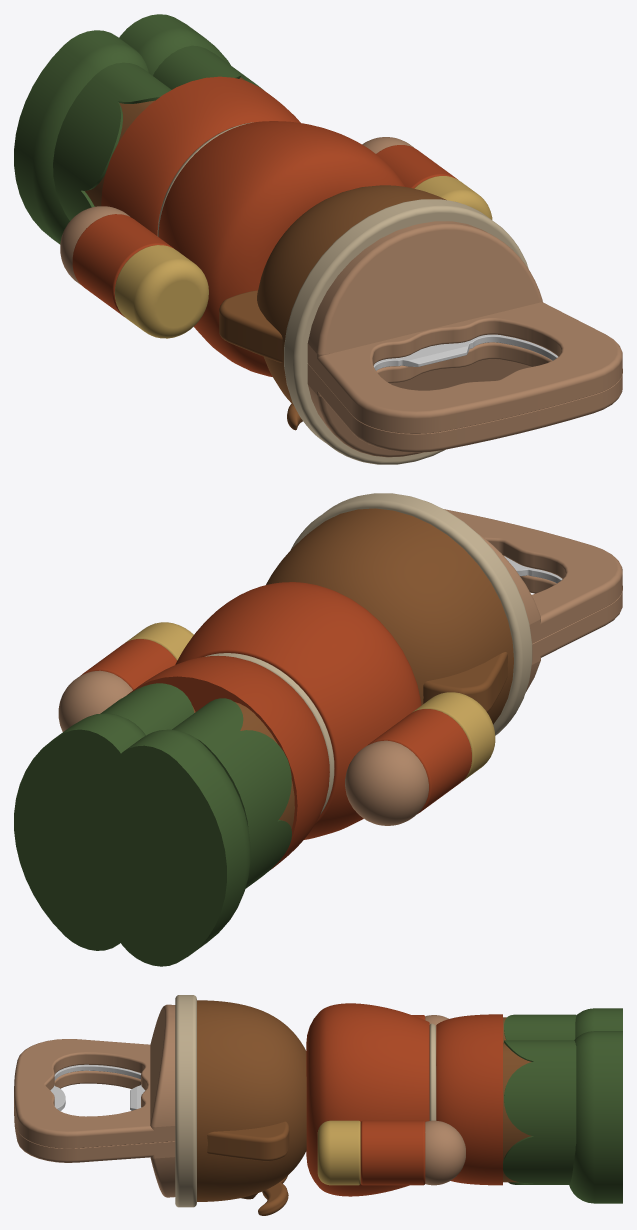
The model's file is Bottleopener.obj.
The picture shows the model from 3 angles, top to bottom: view 1: azimuth 30°, elevation 25°; view 2: azimuth 150°, elevation 25°; view 3: azimuth 270°, elevation 25°; orthographic projection. The views are drawn at different scales.
Parts seen in each view (by area): view 1: 본체51, 본체38, 본체39, 본체34, 본체31, 본체32, 본체44, 본체54, 본체46, 본체49, 본체43, 본체41 (+4 smaller); view 2: 본체31, 본체44, 본체38, 본체43, 본체39, 본체54, 본체51, 본체32, 본체48, 본체49, 본체41, 본체56 (+5 smaller); view 3: 본체31, 본체38, 본체51, 본체41, 본체39, 본체43, 본체32, 본체57, 본체34, 본체55, 본체56, 본체54 (+3 smaller).
Part boxes in pixels (bbox=[...]): 본체51: bbox=[307, 221, 622, 433]; 본체38: bbox=[158, 121, 404, 376]; 본체39: bbox=[101, 76, 300, 235]; 본체34: bbox=[307, 342, 622, 457]; 본체31: bbox=[219, 185, 446, 430]; 본체32: bbox=[284, 199, 528, 464]; 본체44: bbox=[14, 30, 148, 244]; 본체54: bbox=[53, 62, 171, 220]; 본체46: bbox=[114, 245, 208, 338]; 본체49: bbox=[72, 214, 173, 316]; 본체43: bbox=[119, 14, 230, 75]; 본체41: bbox=[153, 45, 262, 89]; 본체31: bbox=[266, 508, 513, 724]; 본체44: bbox=[109, 729, 250, 966]; 본체38: bbox=[175, 582, 421, 839]; 본체43: bbox=[14, 713, 145, 950]; 본체39: bbox=[127, 655, 329, 869]; 본체54: bbox=[172, 698, 294, 888]; 본체51: bbox=[444, 509, 622, 643]; 본체32: bbox=[290, 493, 532, 735]; 본체48: bbox=[345, 740, 428, 825]; 본체49: bbox=[367, 709, 471, 813]; 본체41: bbox=[100, 683, 195, 735]; 본체56: bbox=[58, 670, 132, 731]; 본체31: bbox=[197, 1000, 306, 1215]; 본체38: bbox=[306, 1003, 429, 1196]; 본체51: bbox=[14, 1004, 175, 1148]; 본체41: bbox=[503, 1040, 576, 1184]; 본체39: bbox=[436, 1014, 502, 1185]; 본체43: bbox=[569, 1031, 622, 1203]; 본체32: bbox=[175, 995, 196, 1207]; 본체57: bbox=[360, 1120, 425, 1185]; 본체34: bbox=[14, 1070, 175, 1197]; 본체55: bbox=[317, 1120, 360, 1185]; 본체56: bbox=[425, 1120, 465, 1185]; 본체54: bbox=[503, 1014, 576, 1042].
Bounding box in the file's own units: 7.3 × 4.97 × 14.12.
